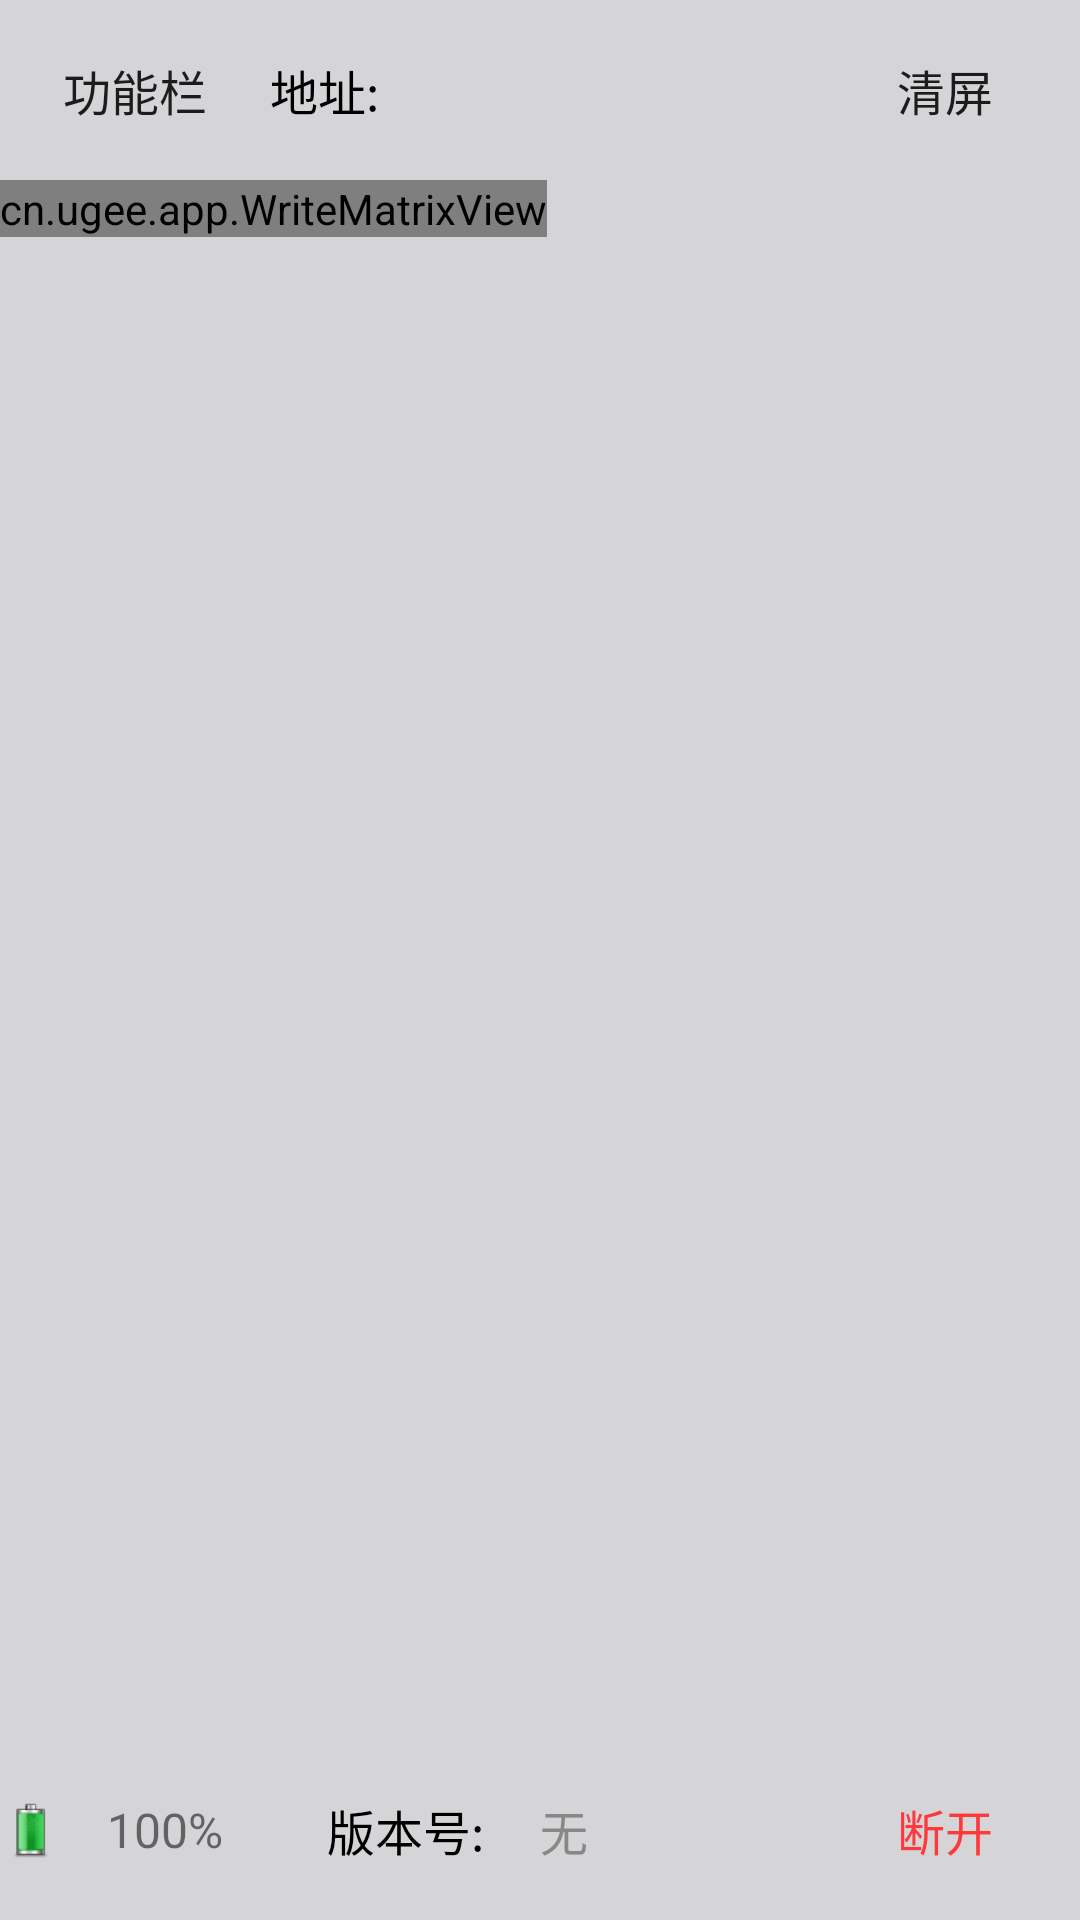

Icons on this 1080w x 1920h Android screen, each with its box as box=[x1, y1, x2, y2]:
battery: box=[15, 1803, 46, 1857]
